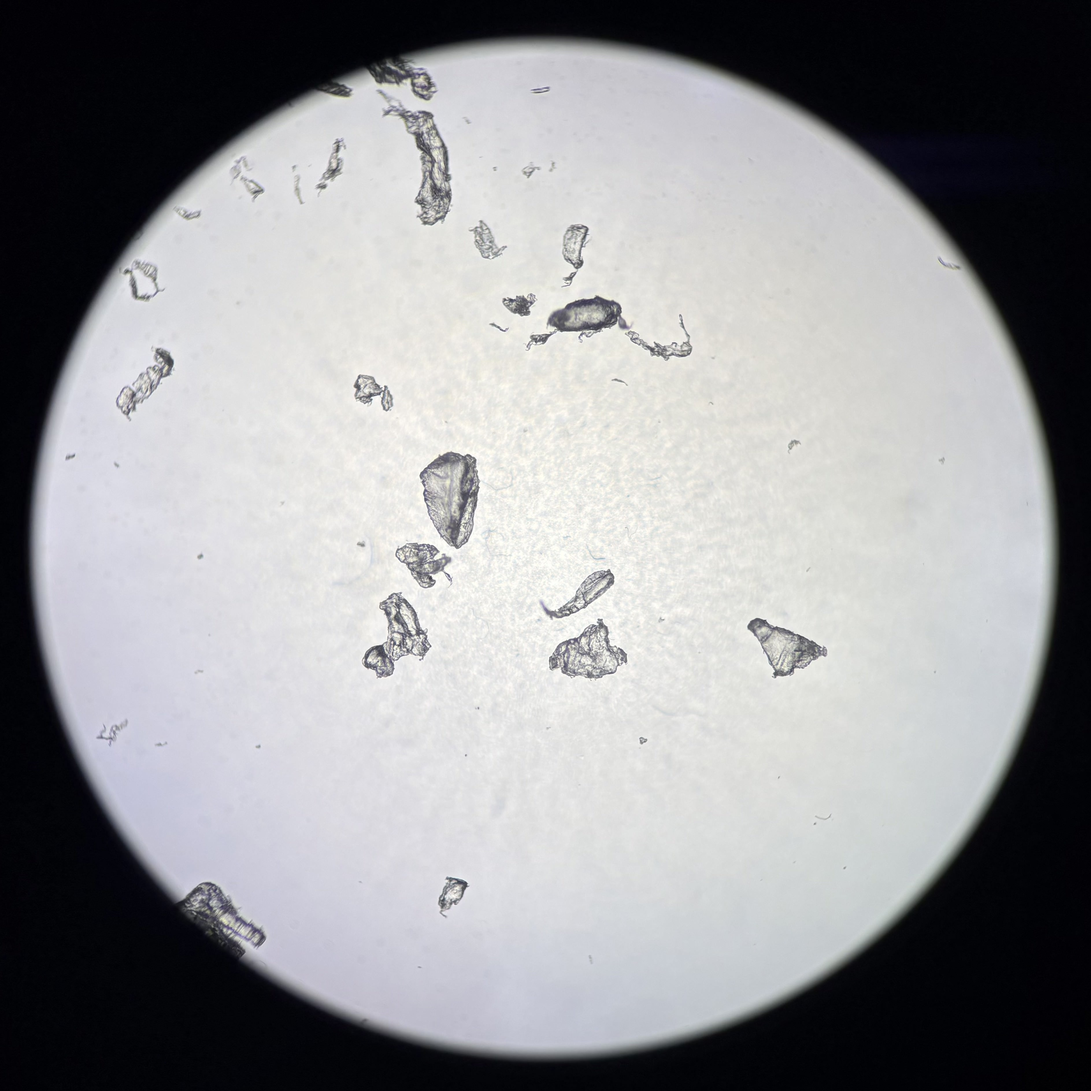microplastic: (522, 295, 701, 361), (377, 90, 451, 229), (173, 876, 271, 961), (362, 587, 440, 677), (417, 448, 484, 551), (742, 616, 839, 676), (545, 616, 633, 679), (538, 560, 623, 621), (115, 346, 184, 418), (364, 57, 445, 101), (394, 540, 458, 589), (346, 371, 404, 417), (555, 222, 590, 280), (319, 136, 351, 195), (223, 160, 266, 203), (464, 221, 506, 263), (126, 259, 165, 303), (434, 874, 470, 912), (314, 79, 355, 102), (504, 292, 538, 313), (175, 207, 200, 223)
